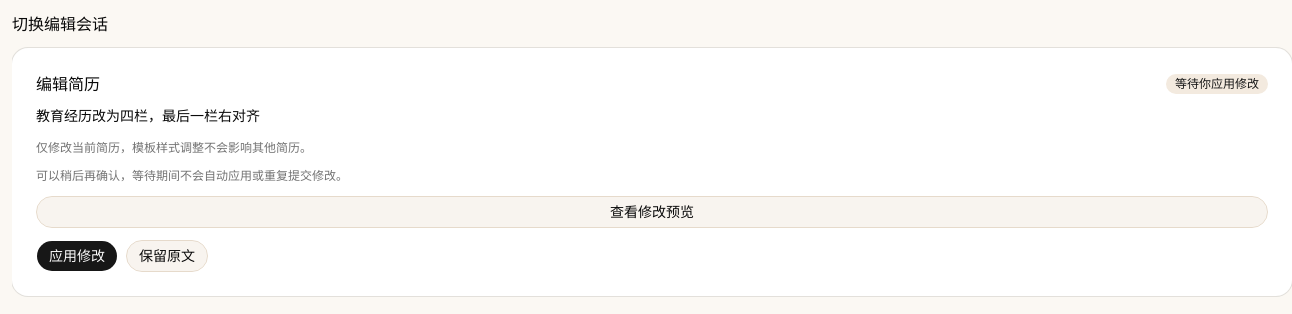
editor request decisions › reports successful writing even when the subsequent page observation fails
Step 1. Click the button "应用修改" → (77, 256), box [36,240,118,272]
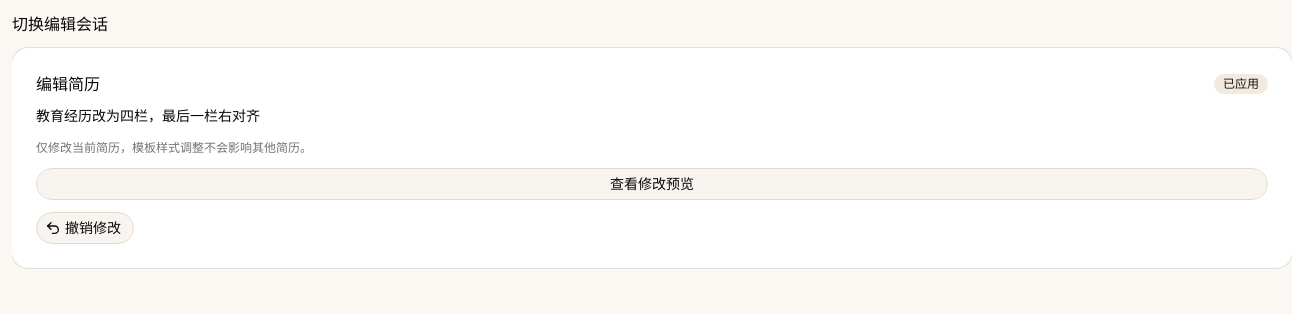
Check: the icon "已应用" is shown, box [1214,74,1268,94]
